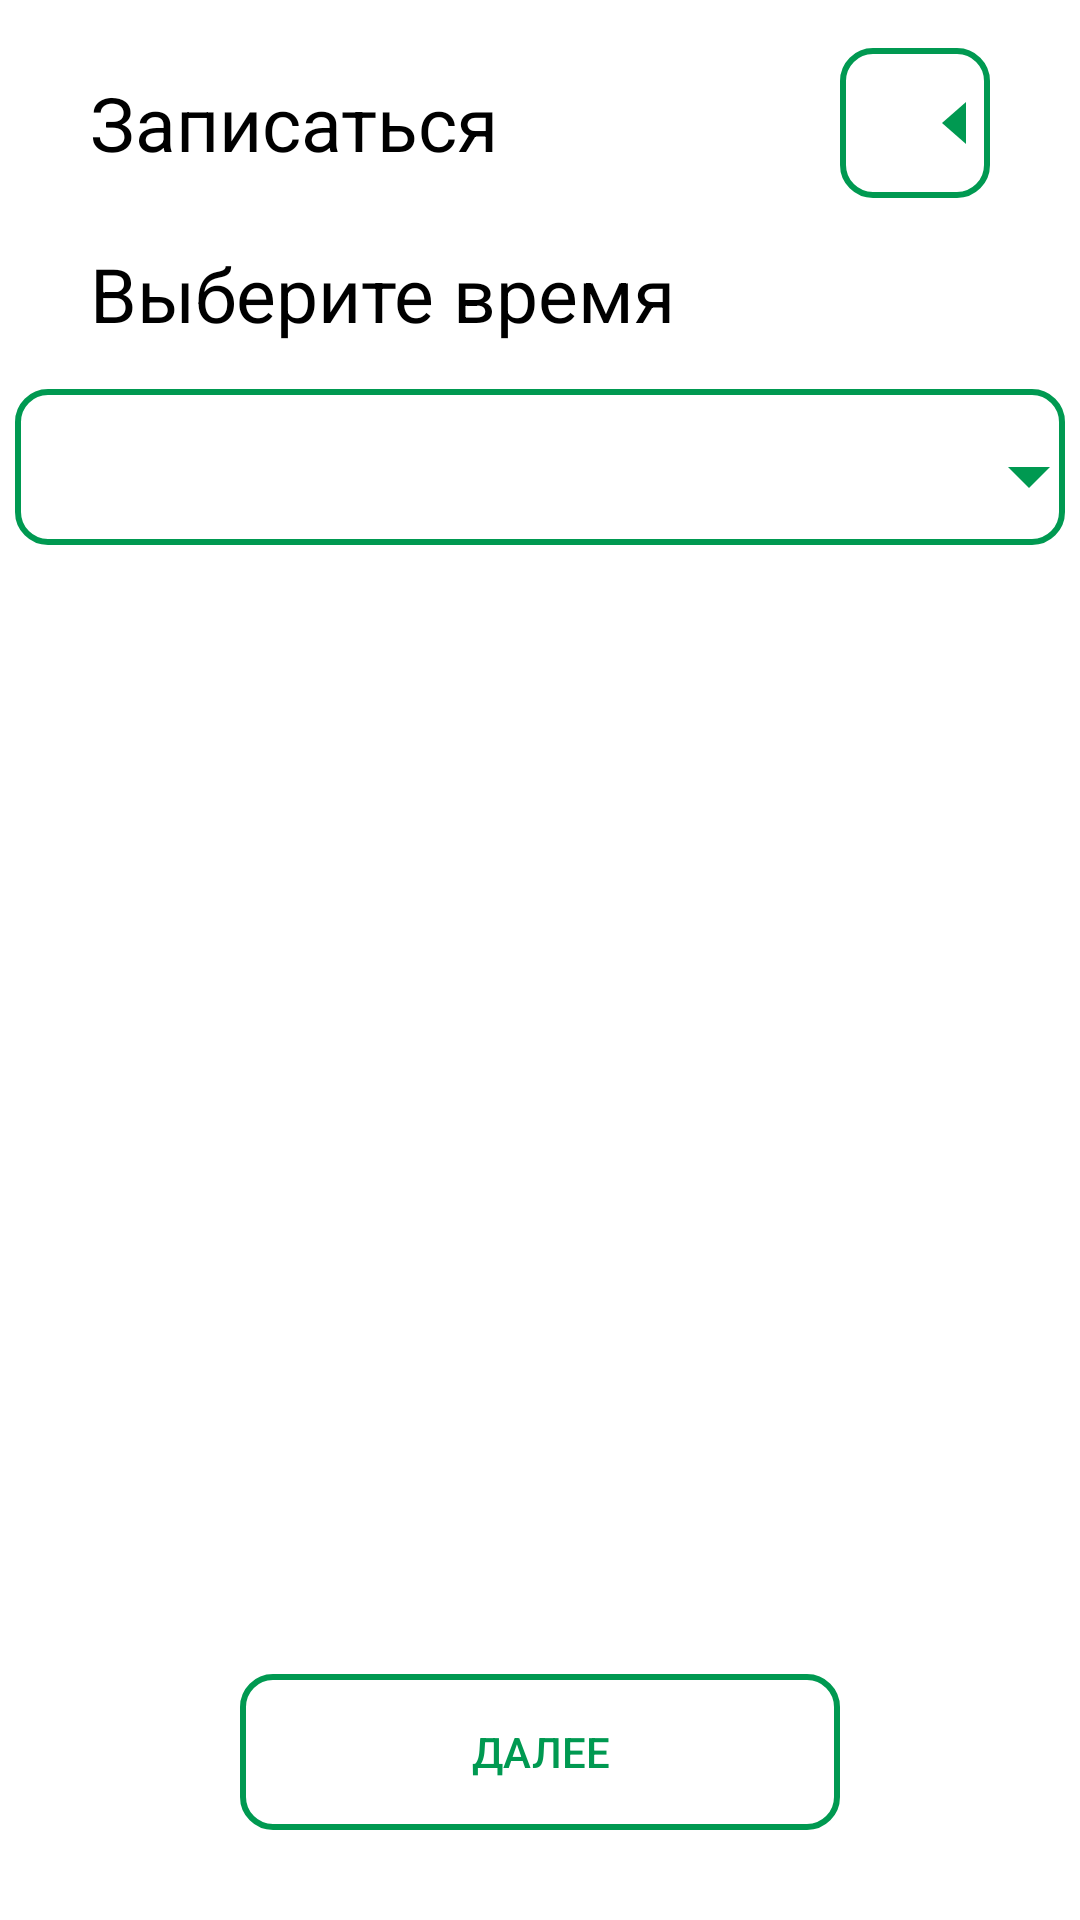

Where to tap for icons on this 1080px×1920px app screen, as (x,y):
obvodka: (915,123)
